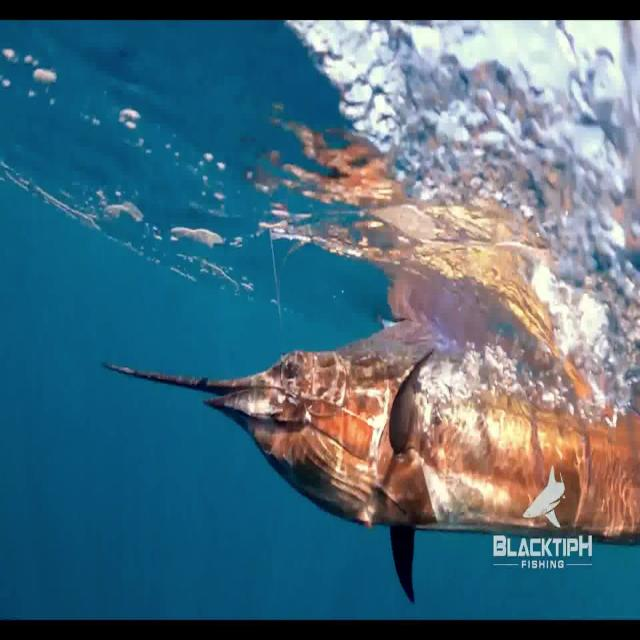Sail Fish: (99, 308, 640, 607)
